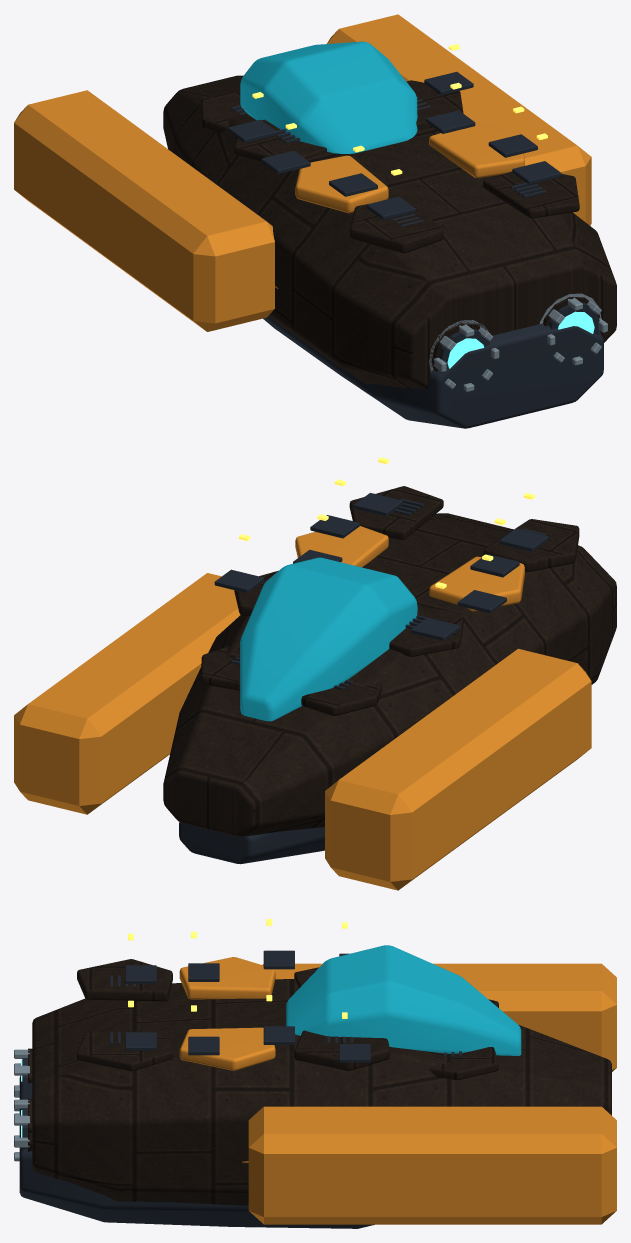
Rendered from forge.glb.
3 views of the same model, one above another, from view 1: azimuth 30°, elevation 25°; view 2: azimuth 150°, elevation 25°; view 3: azimuth 270°, elevation 25° (orthographic). The views are drawn at different scales.
Visible parts, largest first — view 1: Gôndola do motor.019 · exportação, Colar da turbina.058 · exportação, Bocal do motor.019 · exportação, Cabine panorâmica.009 · exportação, Aleta do bocal.159 · exportação, Núcleo propulsor.019 · exportação; view 2: Colar da turbina.058 · exportação, Gôndola do motor.019 · exportação, Cabine panorâmica.009 · exportação, Bocal do motor.019 · exportação; view 3: Gôndola do motor.019 · exportação, Colar da turbina.058 · exportação, Cabine panorâmica.009 · exportação, Bocal do motor.019 · exportação, Aleta do bocal.159 · exportação.
Boxes of the visible parts, x1=… form: Gôndola do motor.019 · exportação: x1=163, y1=75, x2=616, y2=389; Colar da turbina.058 · exportação: x1=14, y1=14, x2=591, y2=331; Bocal do motor.019 · exportação: x1=228, y1=71, x2=603, y2=428; Cabine panorâmica.009 · exportação: x1=240, y1=41, x2=417, y2=153; Aleta do bocal.159 · exportação: x1=429, y1=293, x2=607, y2=391; Núcleo propulsor.019 · exportação: x1=447, y1=311, x2=594, y2=368; Colar da turbina.058 · exportação: x1=14, y1=526, x2=591, y2=890; Gôndola do motor.019 · exportação: x1=163, y1=486, x2=616, y2=836; Cabine panorâmica.009 · exportação: x1=240, y1=557, x2=417, y2=721; Bocal do motor.019 · exportação: x1=179, y1=493, x2=548, y2=864; Gôndola do motor.019 · exportação: x1=28, y1=959, x2=611, y2=1205; Colar da turbina.058 · exportação: x1=179, y1=957, x2=616, y2=1224; Cabine panorâmica.009 · exportação: x1=286, y1=945, x2=521, y2=1055; Bocal do motor.019 · exportação: x1=19, y1=950, x2=461, y2=1228; Aleta do bocal.159 · exportação: x1=14, y1=1049, x2=29, y2=1161.
Bounding box in the file's own units: 34.44 × 20.75 × 47.93.
Materials: 7 (1 with a texture image).
